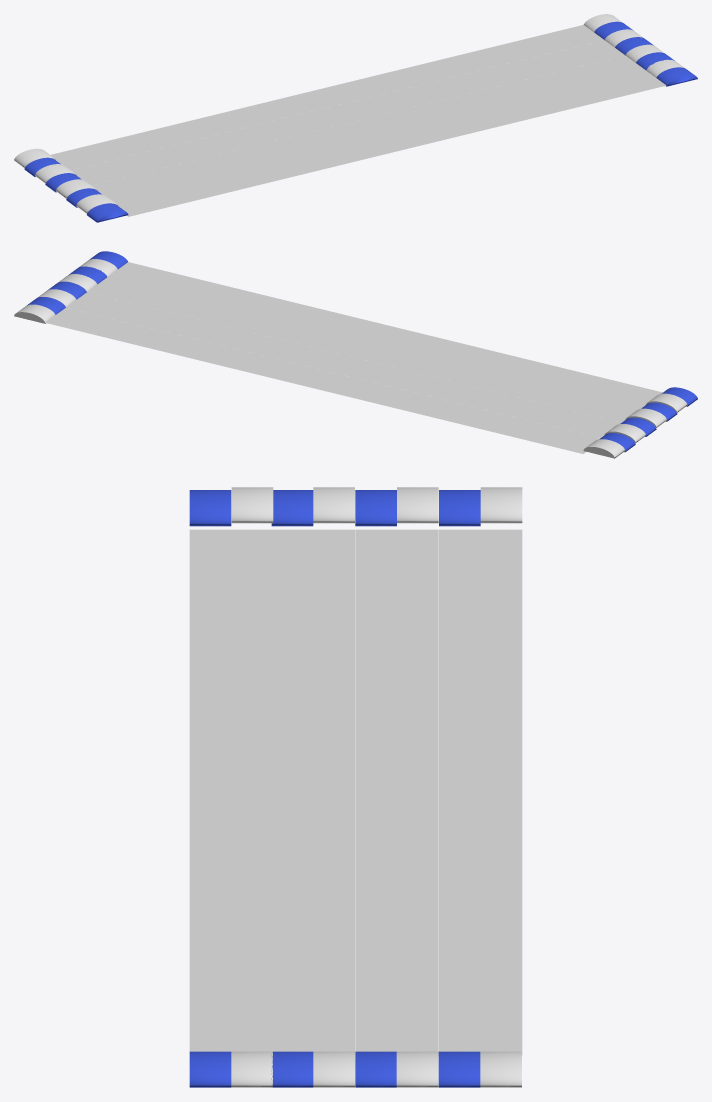
File: straightroad.fbx
3 renders of one model, top to bottom at view 1: azimuth 30°, elevation 25°; view 2: azimuth 150°, elevation 25°; view 3: azimuth 270°, elevation 25°, orthographic. The views are drawn at different scales.
Parts seen in each view (by area): view 1: Plane.002, Plane.003, Plane.001, Plane, blue side.001, blue side, green side.001, green side.005, green side.003, green side.007, blue side.006, green side.002 (+5 smaller); view 2: Plane.003, Plane.002, Plane.001, Plane, green side.007, green side.006, green side.001, green side.003, green side.005, blue side.004, blue side, green side.002 (+4 smaller); view 3: Plane, Plane.002, Plane.003, Plane.001, blue side, blue side.001, green side.001, green side.004, blue side.006, green side.007, green side, green side.002 (+8 smaller).
Boxes of the visible parts, x1=… form: Plane.002: x1=71, y1=40, x2=624, y2=185; Plane.003: x1=51, y1=25, x2=603, y2=169; Plane.001: x1=92, y1=55, x2=645, y2=200; Plane: x1=113, y1=70, x2=666, y2=216; blue side.001: x1=87, y1=203, x2=128, y2=222; blue side: x1=656, y1=67, x2=697, y2=86; green side.001: x1=76, y1=194, x2=117, y2=213; green side.005: x1=35, y1=164, x2=76, y2=183; green side.003: x1=56, y1=179, x2=97, y2=198; green side.007: x1=14, y1=148, x2=55, y2=167; blue side.006: x1=594, y1=21, x2=633, y2=39; green side.002: x1=625, y1=44, x2=663, y2=62; Plane.003: x1=45, y1=307, x2=600, y2=453; Plane.002: x1=66, y1=292, x2=621, y2=437; Plane.001: x1=87, y1=277, x2=642, y2=422; Plane: x1=108, y1=262, x2=662, y2=407; green side.007: x1=583, y1=439, x2=625, y2=458; green side.006: x1=14, y1=304, x2=55, y2=323; green side.001: x1=646, y1=393, x2=687, y2=412; green side.003: x1=625, y1=408, x2=666, y2=427; green side.005: x1=604, y1=424, x2=645, y2=443; blue side.004: x1=47, y1=281, x2=86, y2=299; blue side: x1=89, y1=251, x2=127, y2=269; green side.002: x1=58, y1=274, x2=97, y2=291; Plane: x1=189, y1=529, x2=273, y2=1051; Plane.002: x1=355, y1=529, x2=438, y2=1055; Plane.003: x1=439, y1=529, x2=522, y2=1055; Plane.001: x1=271, y1=529, x2=354, y2=1051; blue side: x1=189, y1=1051, x2=231, y2=1087; blue side.001: x1=189, y1=490, x2=231, y2=526; green side.001: x1=231, y1=487, x2=273, y2=523; green side.004: x1=396, y1=1051, x2=438, y2=1087; blue side.006: x1=438, y1=1051, x2=480, y2=1087; green side.007: x1=480, y1=487, x2=522, y2=523; green side: x1=231, y1=1051, x2=272, y2=1087; green side.002: x1=313, y1=1051, x2=354, y2=1087.
Size of the model in its own units: 1337 by 24.08 by 320.
